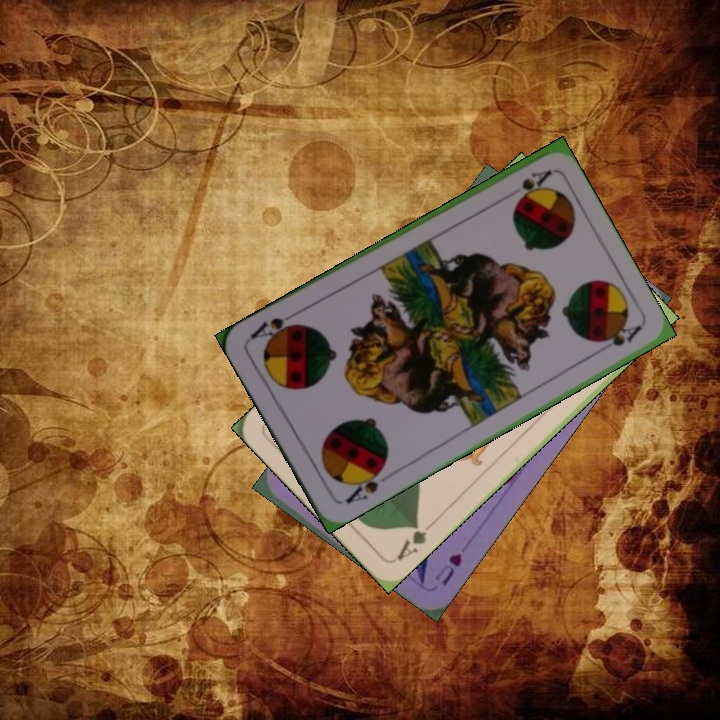GA: (393, 517, 437, 564)
HU: (430, 548, 465, 588)
SA: (341, 462, 387, 507), (517, 166, 554, 199)
